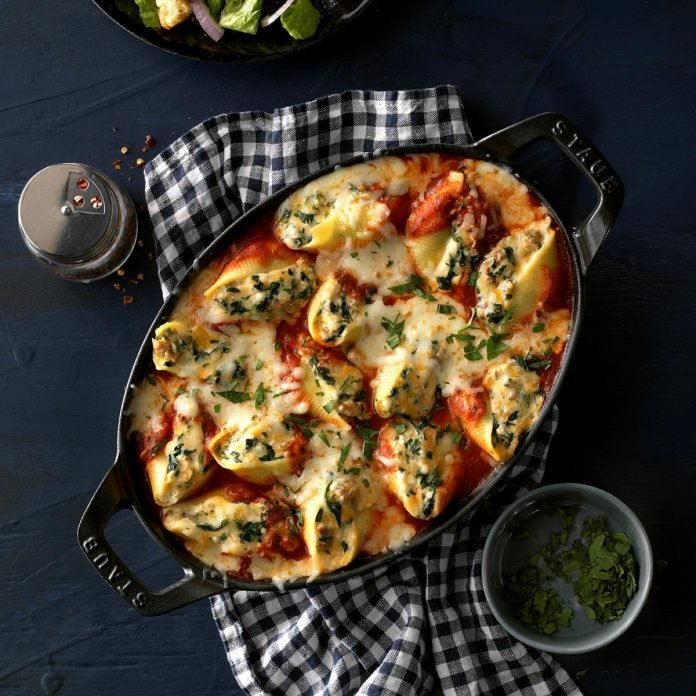cheese: (251, 236, 462, 405)
